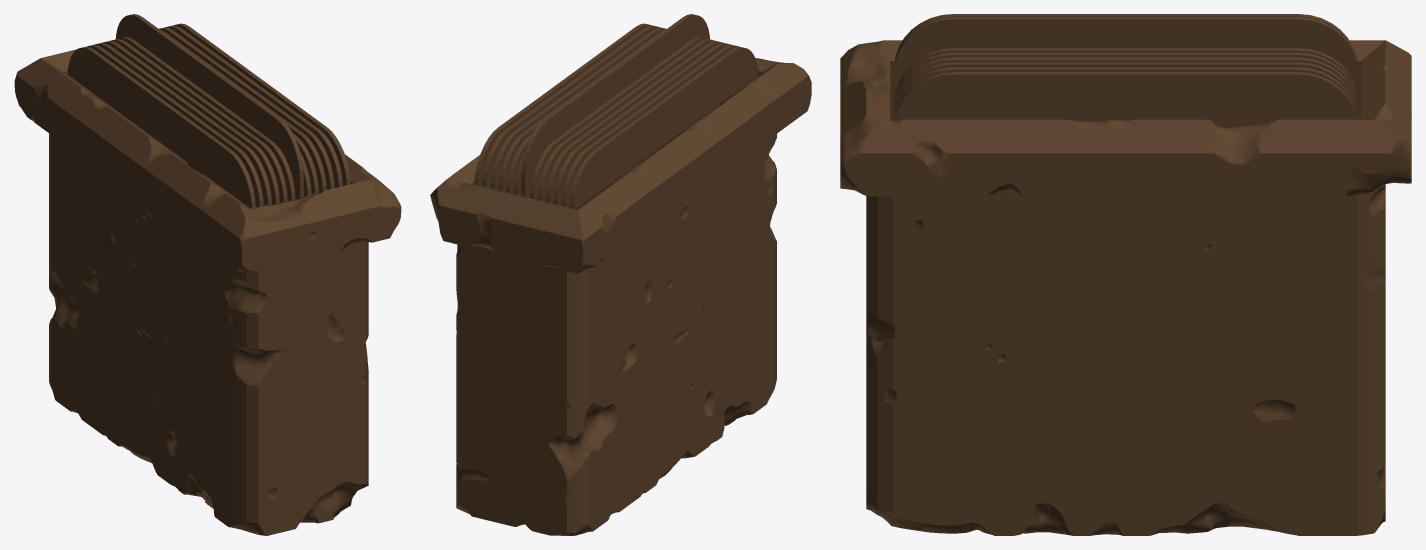
File: CardHolder.fbx
3 views of the same model, side by side, from view 1: azimuth 30°, elevation 25°; view 2: azimuth 150°, elevation 25°; view 3: azimuth 270°, elevation 25° (orthographic). The views are drawn at different scales.
Visible parts, largest first — view 1: Card holder; view 2: Card holder; view 3: Card holder.
Part boxes in pixels (left/top/right/bottom): Card holder: left=14, top=14, right=401, bottom=535; Card holder: left=430, top=14, right=811, bottom=535; Card holder: left=840, top=14, right=1411, bottom=535.
Size of the model in its own units: 188 by 459 by 424.
